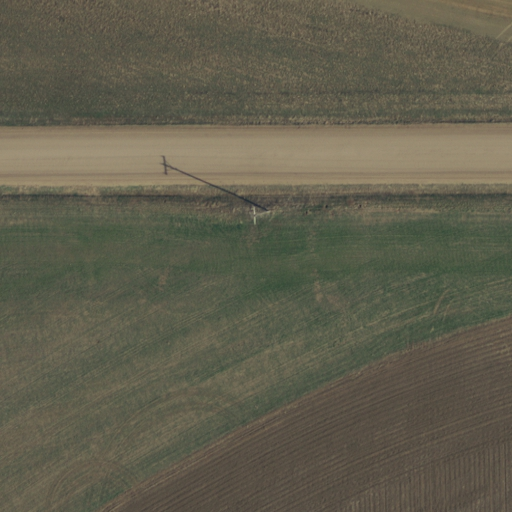DT: (243, 201, 282, 231)
